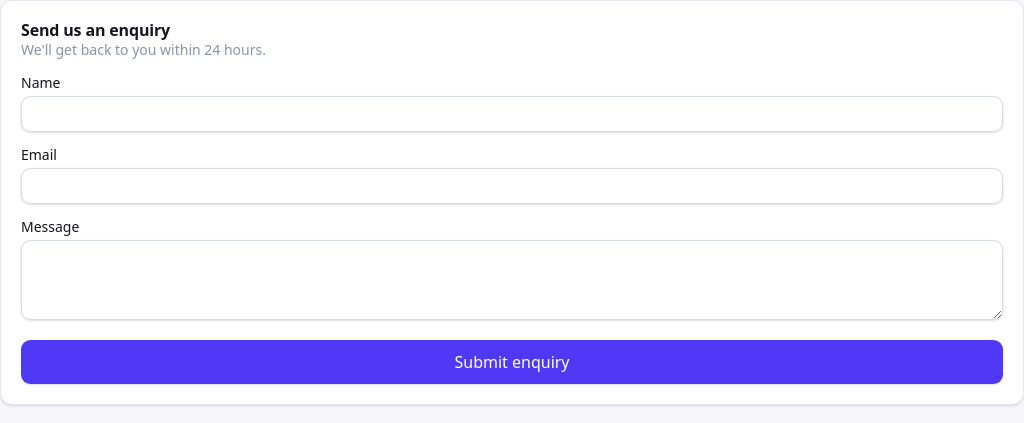
Scenario: EnquiryForm › shows a Thank you message after a successful submission
Type "Jane" into the field labelled "Name" at [512, 114], box [21, 96, 1003, 132]
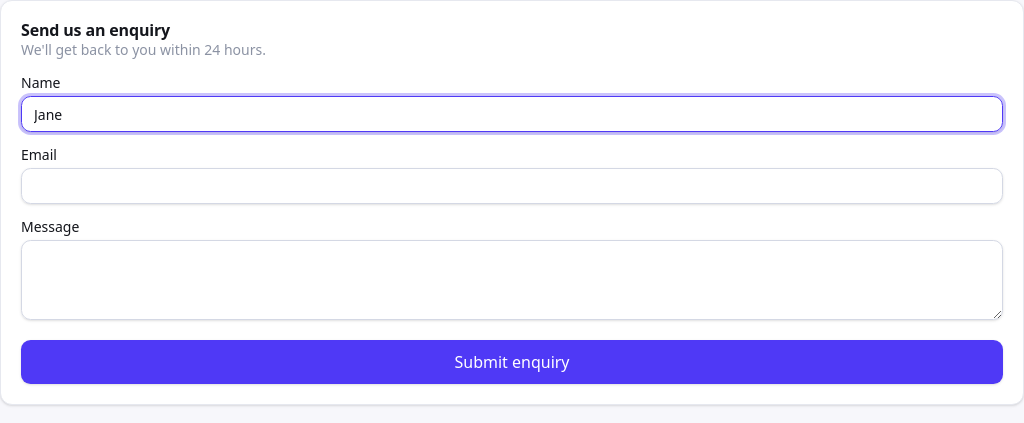
Type "jane@example.com" into the field labelled "Email" at [512, 186], box [21, 168, 1003, 204]
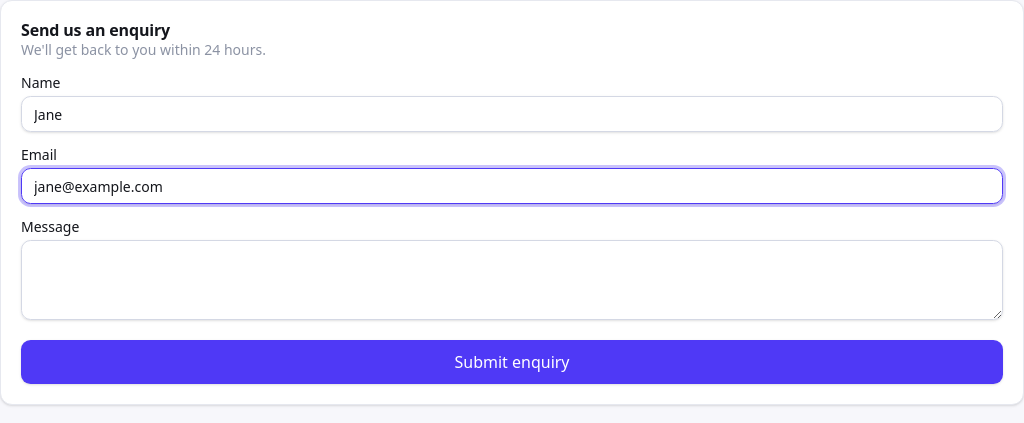
Type "Interested in this!" into the text box labelled "Message" at [512, 280], box [21, 240, 1003, 320]
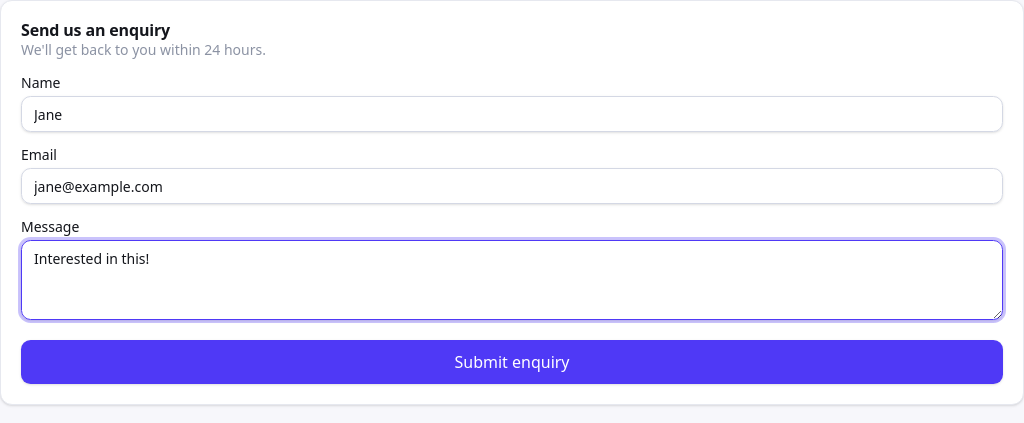
Click the button "Submit enquiry" at [512, 362], box [21, 340, 1003, 384]
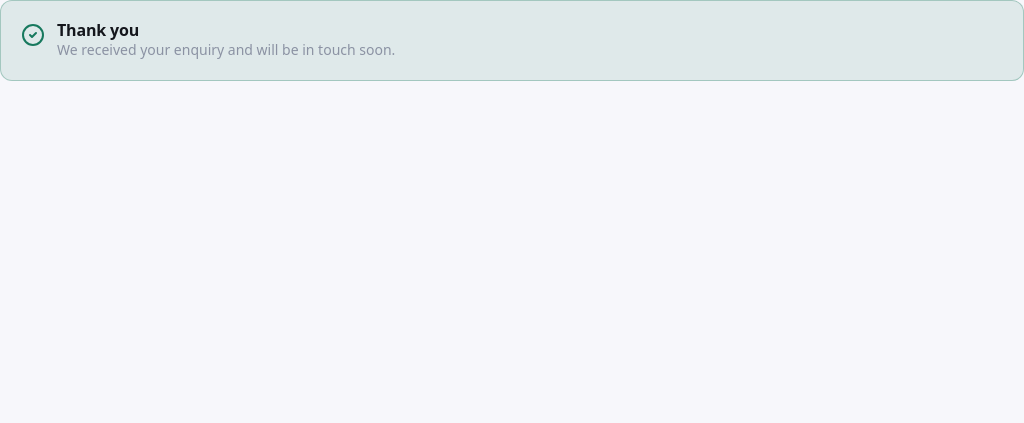
Expected: the message shows "Thank you", [57, 19, 139, 41]
